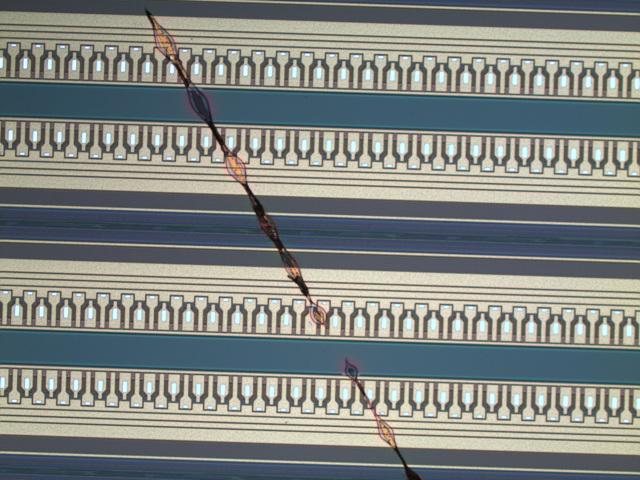SCRATCH: (137, 3, 424, 480)
